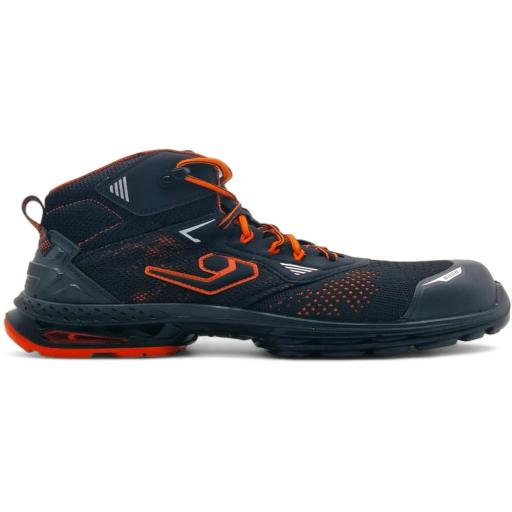safety_boots: (4, 150, 512, 366)
